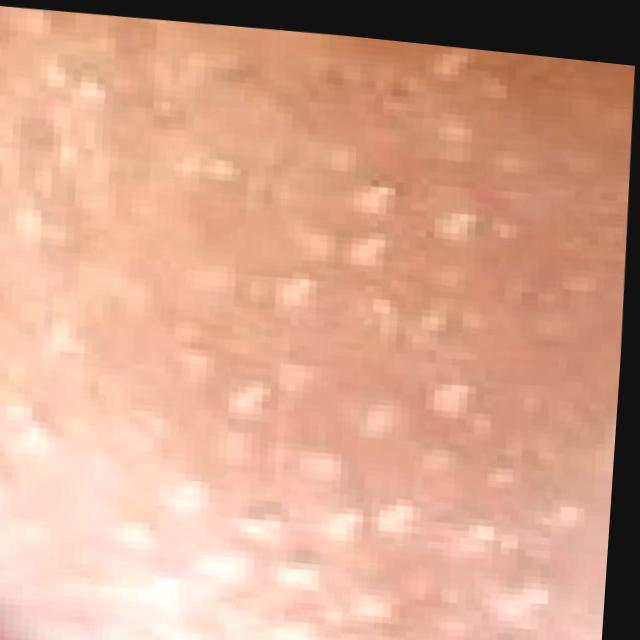whitehead: (9, 26, 610, 640)
